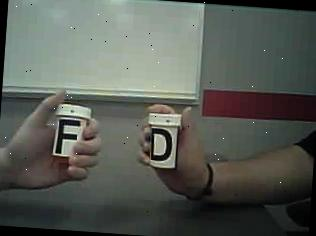Bottle D: (142, 107, 186, 175)
Bottle F: (48, 97, 94, 166)
